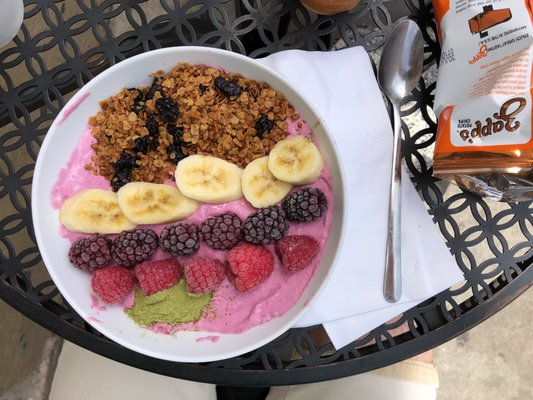pasta: (117, 181, 200, 226), (59, 188, 136, 235), (175, 154, 243, 204), (241, 155, 295, 209), (268, 136, 324, 185)
